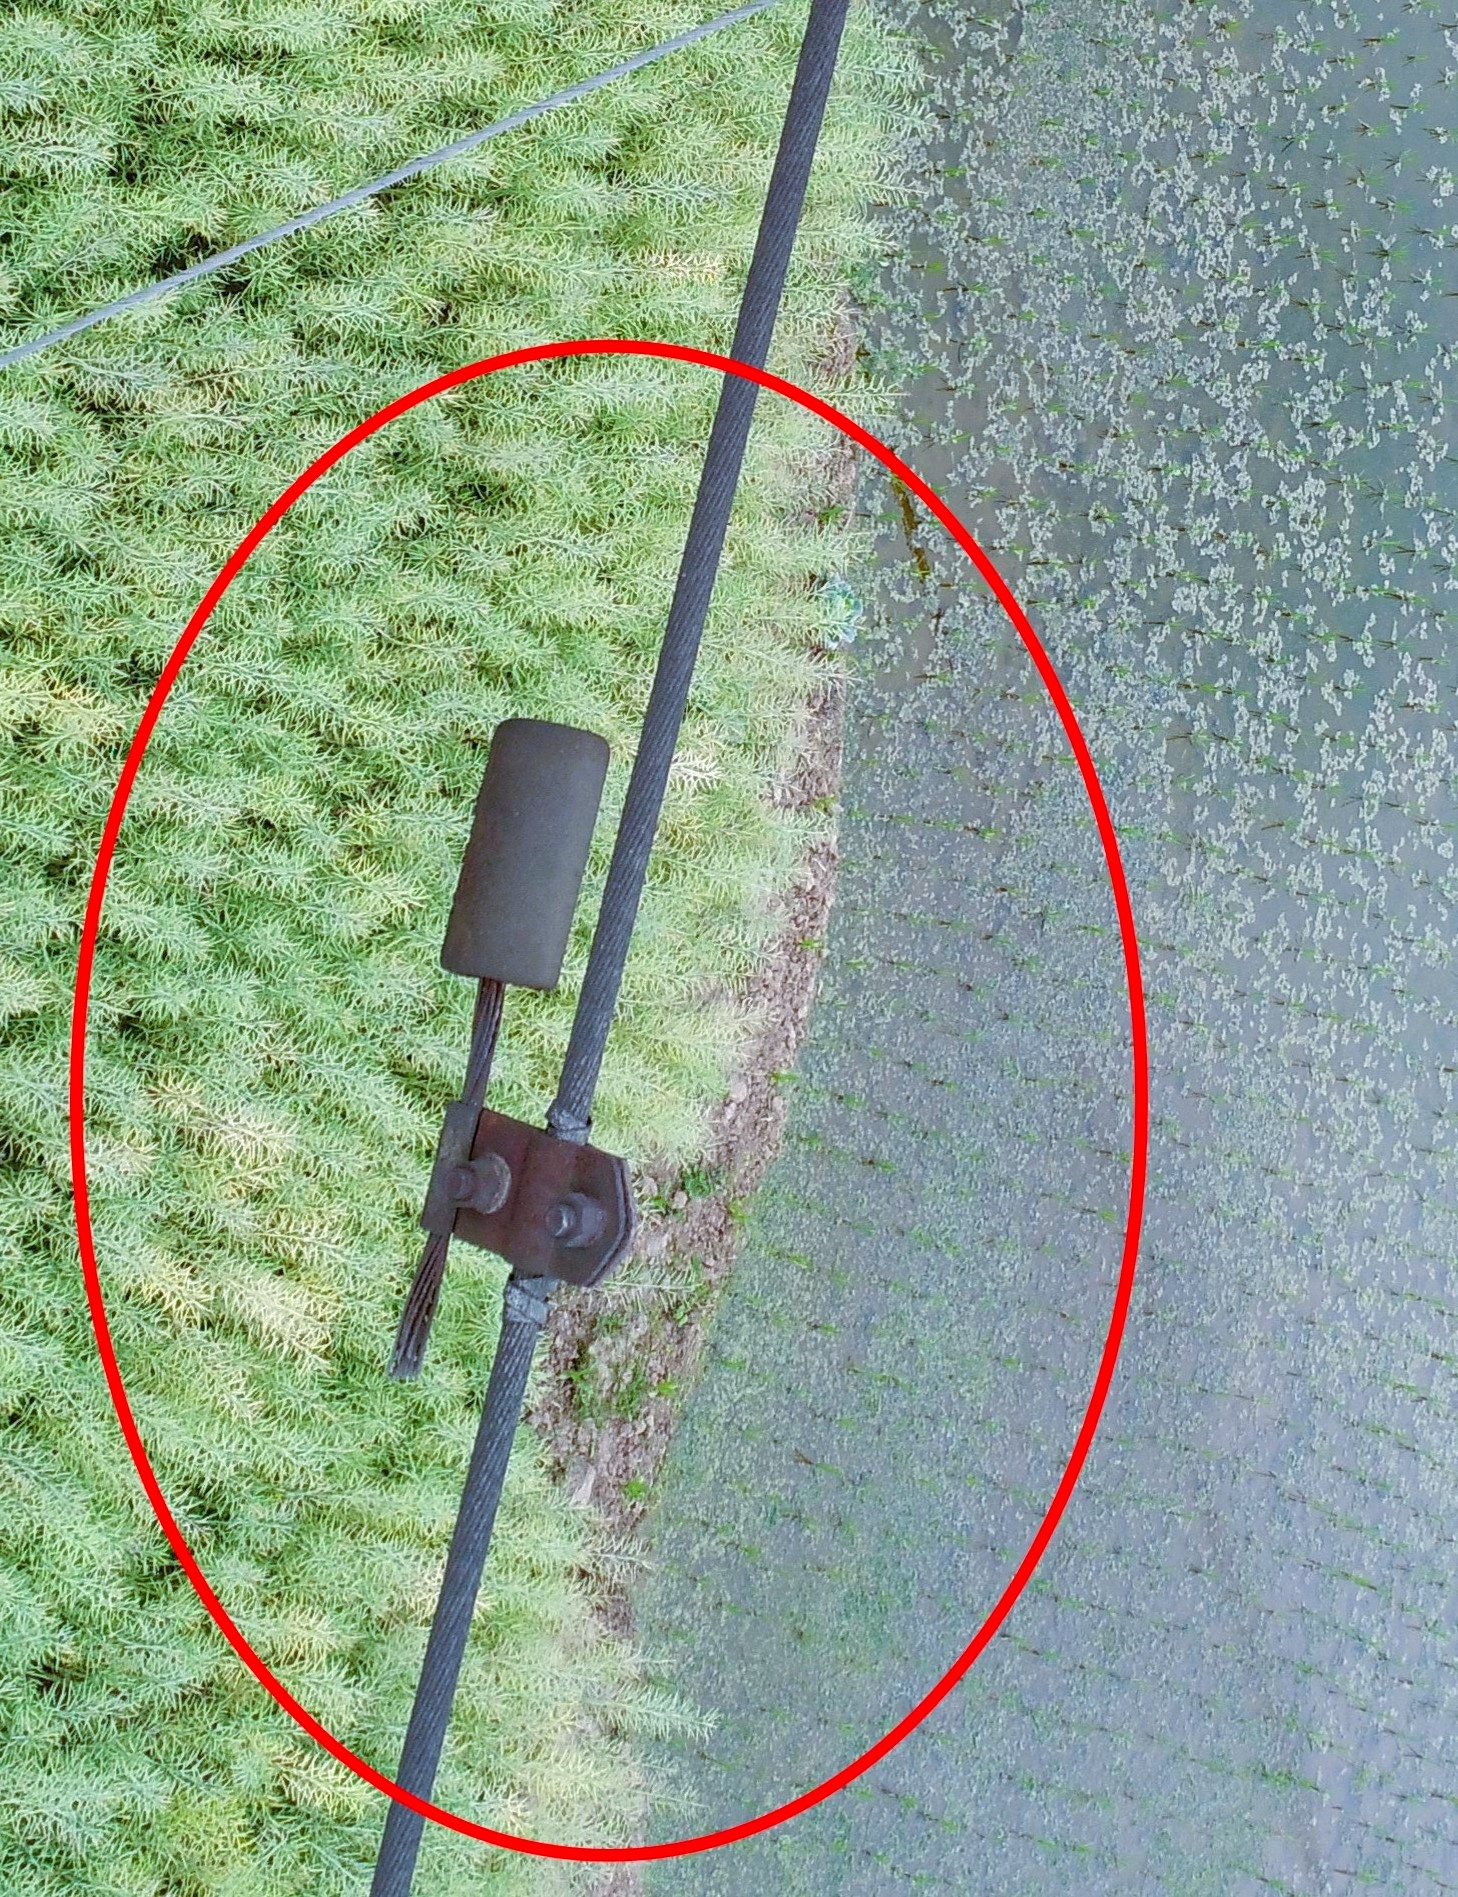Damage of shockproof hammer: (369, 652, 711, 1425)
